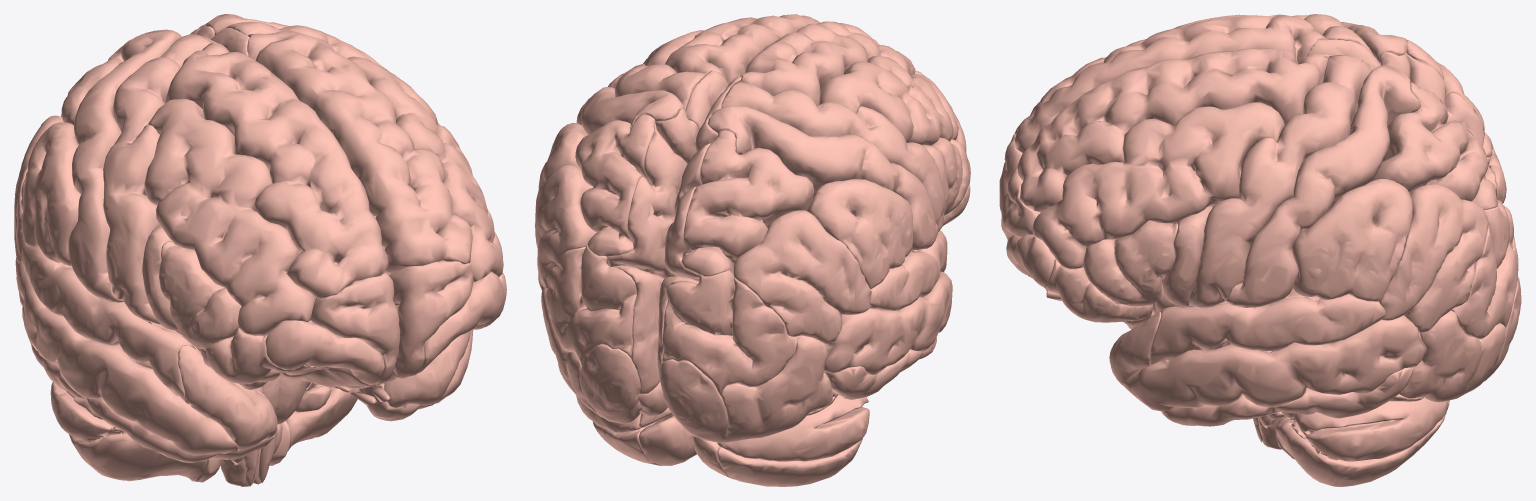
Rendered from brain.glb.
3 renders of one model, left to right at view 1: azimuth 30°, elevation 25°; view 2: azimuth 150°, elevation 25°; view 3: azimuth 270°, elevation 25°, orthographic. The views are drawn at different scales.
Visible parts, largest first — view 1: Allen_superior_frontal_gyrus_L, Allen_middle_frontal_gyrus_L, Allen_superior_frontal_gyrus_R, Allen_middle_temporal_gyrus_L, Allen_precentral_gyrus_L, Allen_postcentral_gyrus_L, Allen_superior_temporal_gyrus_L, Allen_middle_frontal_gyrus_R, Allen_supramarginal_gyrus_L, Allen_rostral_gyrus_R, Allen_lateral_hemisphere_of_cerebellum_L, Allen_inferior_frontal_gyrus_triangular_part_L (+19 smaller); view 2: Allen_angular_gyrus_L, Allen_supraparietal_lobule_L, Allen_superior_occipital_gyrus_L, Allen_postcentral_gyrus_L, Allen_lateral_hemisphere_of_cerebellum_L, Allen_superior_occipital_gyrus_R, Allen_supraparietal_lobule_R, Allen_precentral_gyrus_L, Allen_supramarginal_gyrus_L, Allen_middle_frontal_gyrus_L, Allen_superior_frontal_gyrus_L, Allen_inferior_occipital_gyrus_L (+24 smaller); view 3: Allen_middle_frontal_gyrus_R, Allen_superior_frontal_gyrus_R, Allen_middle_temporal_gyrus_R, Allen_precentral_gyrus_R, Allen_postcentral_gyrus_R, Allen_supramarginal_gyrus_R, Allen_angular_gyrus_R, Allen_superior_temporal_gyrus_R, Allen_lateral_hemisphere_of_cerebellum_R, Allen_superior_frontal_gyrus_L, Allen_supraparietal_lobule_R, Allen_inferior_frontal_gyrus_triangular_part_R (+16 smaller).
Part boxes in pixels (x1,y1,x2,y2): Allen_superior_frontal_gyrus_L: (165,43,388,299); Allen_middle_frontal_gyrus_L: (144,99,315,335); Allen_superior_frontal_gyrus_R: (247,30,472,273); Allen_middle_temporal_gyrus_L: (16,260,238,455); Allen_precentral_gyrus_L: (103,34,210,324); Allen_postcentral_gyrus_L: (68,29,181,302); Allen_superior_temporal_gyrus_L: (21,245,195,404); Allen_middle_frontal_gyrus_R: (347,56,503,281); Allen_supramarginal_gyrus_L: (21,122,80,266); Allen_rostral_gyrus_R: (389,260,473,378); Allen_lateral_hemisphere_of_cerebellum_L: (50,382,207,481); Allen_inferior_frontal_gyrus_triangular_part_L: (159,241,241,350); Allen_angular_gyrus_L: (733,210,871,343); Allen_supraparietal_lobule_L: (681,130,814,276); Allen_superior_occipital_gyrus_L: (662,269,798,394); Allen_postcentral_gyrus_L: (707,105,938,250); Allen_lateral_hemisphere_of_cerebellum_L: (717,395,869,486); Allen_superior_occipital_gyrus_R: (546,245,636,365); Allen_supraparietal_lobule_R: (575,114,655,256); Allen_precentral_gyrus_L: (721,80,945,231); Allen_supramarginal_gyrus_L: (807,179,912,288); Allen_middle_frontal_gyrus_L: (819,55,966,152); Allen_superior_frontal_gyrus_L: (740,21,924,106); Allen_inferior_occipital_gyrus_L: (720,335,836,442); Allen_middle_frontal_gyrus_R: (1032,102,1284,268); Allen_superior_frontal_gyrus_R: (1017,48,1327,212); Allen_middle_temporal_gyrus_R: (1122,315,1425,411); Allen_precentral_gyrus_R: (1189,55,1372,307); Allen_postcentral_gyrus_R: (1225,65,1420,307); Allen_supramarginal_gyrus_R: (1291,179,1412,301); Allen_angular_gyrus_R: (1379,184,1488,333); Allen_superior_temporal_gyrus_R: (1149,294,1385,365); Allen_lateral_hemisphere_of_cerebellum_R: (1267,397,1449,486); Allen_superior_frontal_gyrus_L: (1014,14,1326,152); Allen_supraparietal_lobule_R: (1371,82,1497,209); Allen_inferior_frontal_gyrus_triangular_part_R: (1082,220,1178,306).
Size of the model in its own units: 0.1363 by 0.146 by 0.167.
